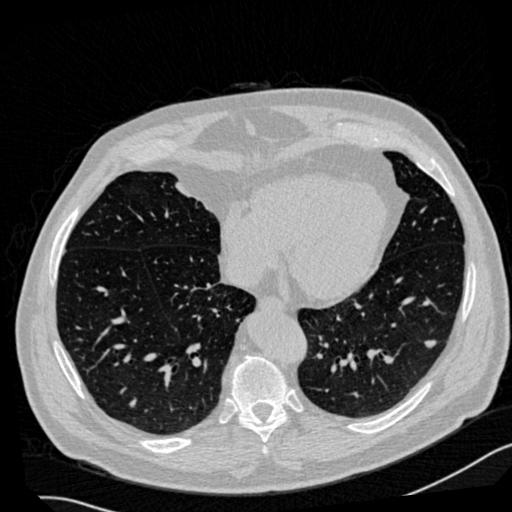nodule: (423, 336, 439, 352)
